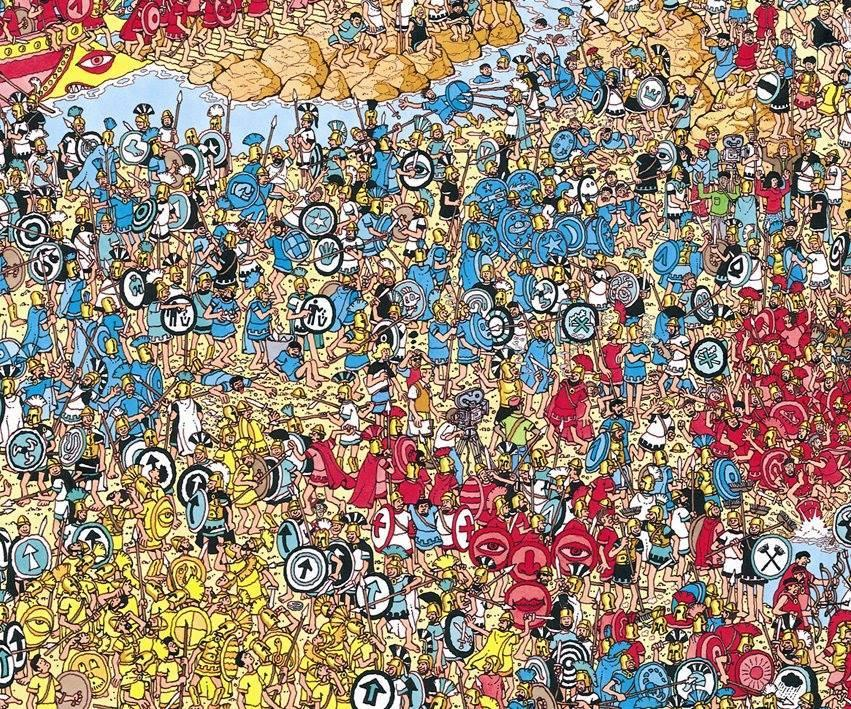waldo: (309, 496, 327, 523)
